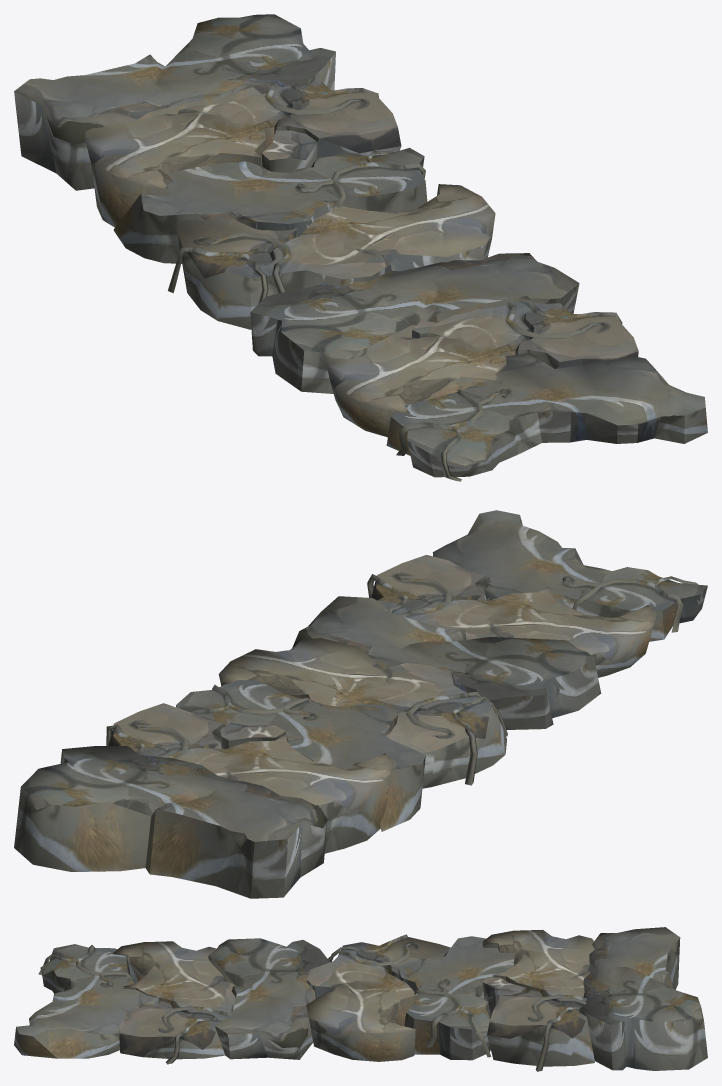
Rendered from AN_N_Rockstairs.FBX.
The picture shows the model from 3 angles, top to bottom: view 1: azimuth 30°, elevation 25°; view 2: azimuth 150°, elevation 25°; view 3: azimuth 270°, elevation 25°; orthographic projection. The views are drawn at different scales.
Parts seen in each view (by area): view 1: AN_N_Rockstairs; view 2: AN_N_Rockstairs; view 3: AN_N_Rockstairs.
Boxes of the visible parts, x1,y1,x2,y2 form: AN_N_Rockstairs: (14, 14, 707, 481); AN_N_Rockstairs: (14, 510, 707, 898); AN_N_Rockstairs: (14, 927, 707, 1071).
Size of the model in its own units: 1165 by 242 by 3166.
Materials: 1 (1 with a texture image).
